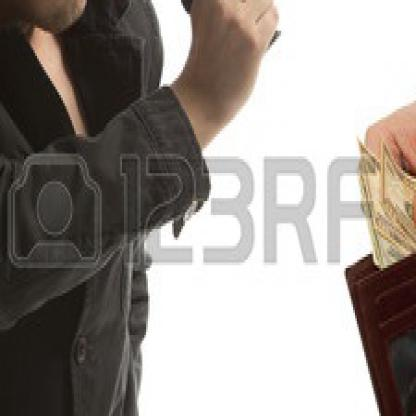gun: (168, 0, 290, 59)
